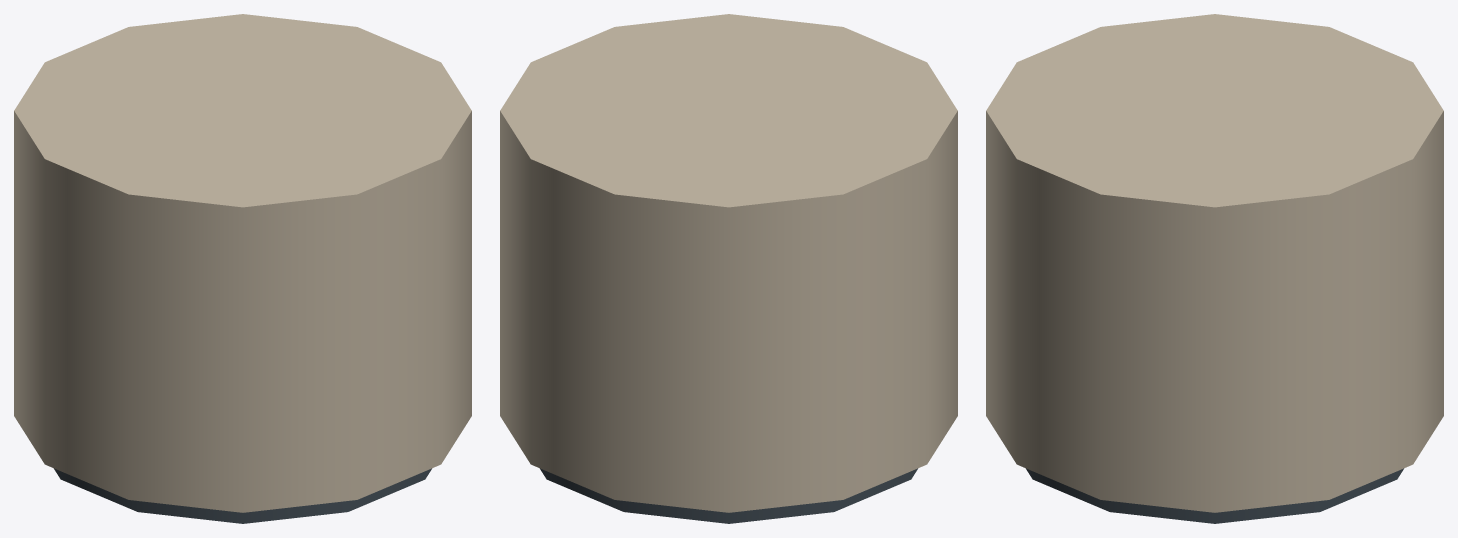
Rendered from pouf-1.glb.
3 renders of one model, left to right at view 1: azimuth 30°, elevation 25°; view 2: azimuth 150°, elevation 25°; view 3: azimuth 270°, elevation 25°, orthographic.
Visible parts, largest first — view 1: pouf:1:editor; view 2: pouf:1:editor; view 3: pouf:1:editor.
Boxes of the visible parts, x1,y1,x2,y2 form: pouf:1:editor: [14, 14, 471, 523]; pouf:1:editor: [500, 14, 957, 523]; pouf:1:editor: [986, 14, 1443, 523].
Bounding box in the file's own units: 0.55 × 0.43 × 0.55.
